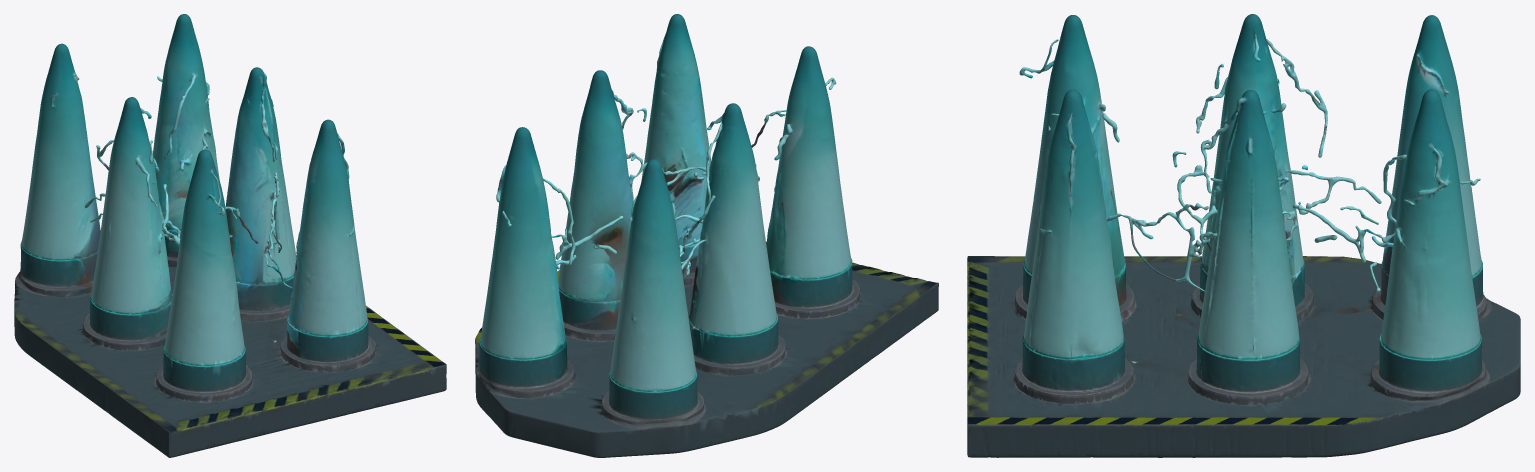
Rendered from spikes-optimized.glb.
The picture shows the model from 3 angles, left to right: view 1: azimuth 30°, elevation 25°; view 2: azimuth 150°, elevation 25°; view 3: azimuth 270°, elevation 25°; orthographic projection. The views are drawn at different scales.
Visible parts, largest first — view 1: tripo_node_47551843-f909-4e61-b9d3-ec93fb0936fc; view 2: tripo_node_47551843-f909-4e61-b9d3-ec93fb0936fc; view 3: tripo_node_47551843-f909-4e61-b9d3-ec93fb0936fc.
Boxes of the visible parts, <box> form: tripo_node_47551843-f909-4e61-b9d3-ec93fb0936fc: <box>14,14,446,457</box>; tripo_node_47551843-f909-4e61-b9d3-ec93fb0936fc: <box>475,14,938,457</box>; tripo_node_47551843-f909-4e61-b9d3-ec93fb0936fc: <box>967,14,1520,457</box>.
Bounding box in the file's own units: 0.7221 × 0.6458 × 1.
Materials: 1 (1 with a texture image).
